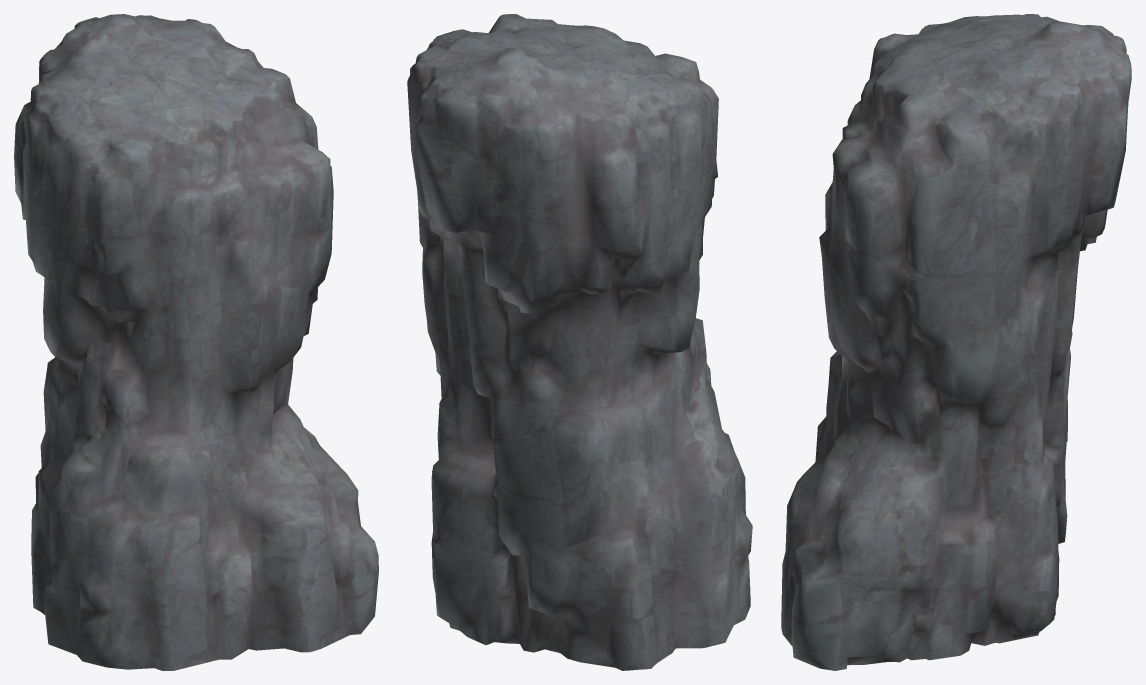
Rendered from stone-6.fbx.
3 renders of one model, left to right at view 1: azimuth 30°, elevation 25°; view 2: azimuth 150°, elevation 25°; view 3: azimuth 270°, elevation 25°, orthographic. The views are drawn at different scales.
Parts seen in each view (by area): view 1: Area_Ly_Stone_CSPY_Full_L_05_Lod0; view 2: Area_Ly_Stone_CSPY_Full_L_05_Lod0; view 3: Area_Ly_Stone_CSPY_Full_L_05_Lod0.
Part boxes in pixels (<box>): Area_Ly_Stone_CSPY_Full_L_05_Lod0: <box>14,14,378,670</box>; Area_Ly_Stone_CSPY_Full_L_05_Lod0: <box>407,14,752,670</box>; Area_Ly_Stone_CSPY_Full_L_05_Lod0: <box>781,14,1131,670</box>.
Size of the model in its own units: 5520 by 10588 by 5837.
Materials: 1 (1 with a texture image).
